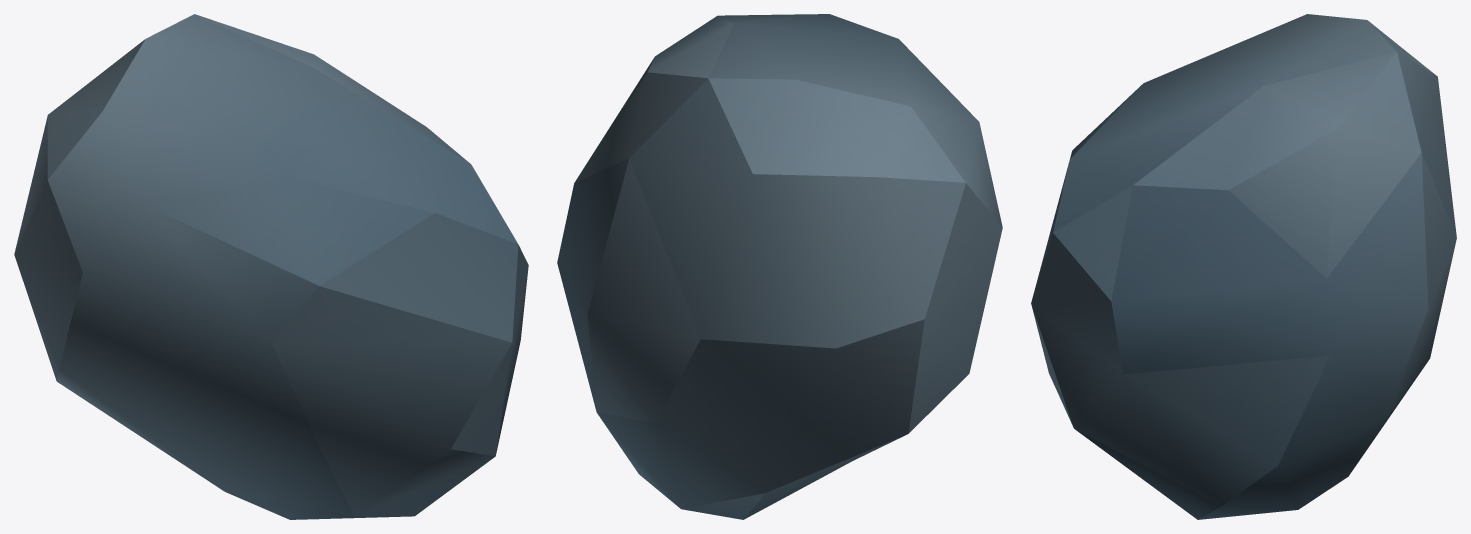
The model's file is Rock_3_C_Color4.fbx.
3 views of the same model, side by side, from view 1: azimuth 30°, elevation 25°; view 2: azimuth 150°, elevation 25°; view 3: azimuth 270°, elevation 25° (orthographic). The views are drawn at different scales.
Parts seen in each view (by area): view 1: Rock_3_C_Color4; view 2: Rock_3_C_Color4; view 3: Rock_3_C_Color4.
Boxes of the visible parts, x1,y1,x2,y2 form: Rock_3_C_Color4: [14, 14, 528, 519]; Rock_3_C_Color4: [557, 14, 1002, 519]; Rock_3_C_Color4: [1031, 14, 1456, 519].
Size of the model in its own units: 0.805 by 0.9676 by 0.8597.
